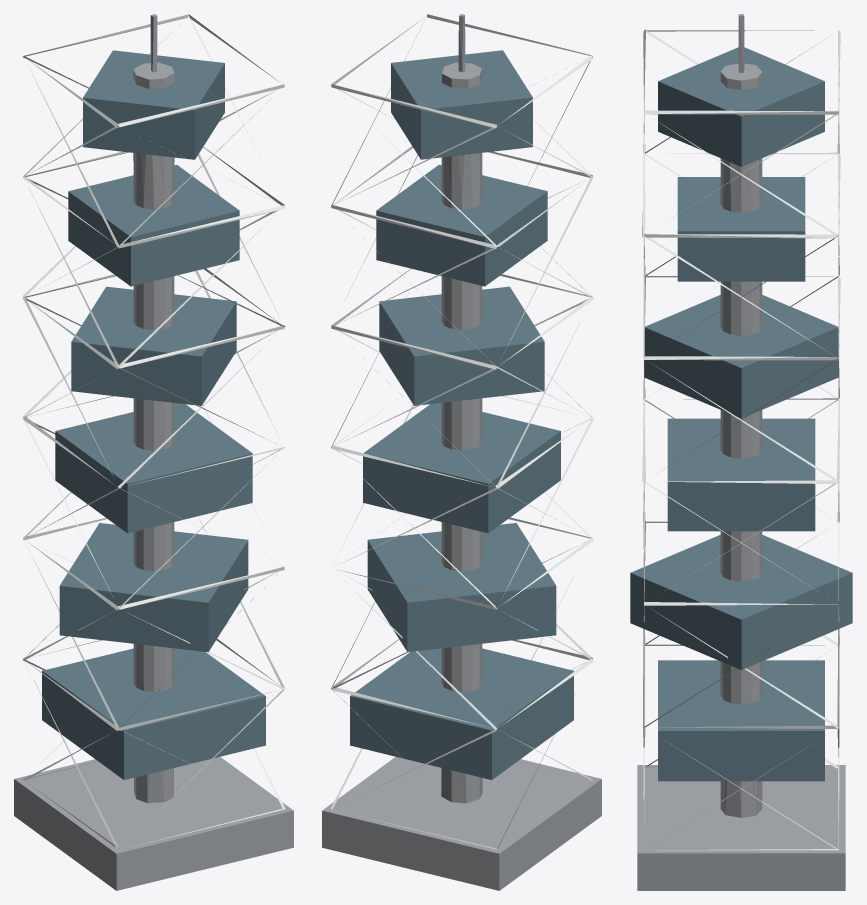
Rendered from linglong-far-a78555ab0e.glb.
The picture shows the model from 3 angles, left to right: view 1: azimuth 30°, elevation 25°; view 2: azimuth 150°, elevation 25°; view 3: azimuth 270°, elevation 25°; orthographic projection.
Visible parts, largest first — view 1: linglong coarse.001; view 2: linglong coarse.001; view 3: linglong coarse.001.
Part boxes in pixels (x1,y1,x2,y2): linglong coarse.001: [14, 14, 293, 890]; linglong coarse.001: [322, 14, 601, 890]; linglong coarse.001: [630, 14, 852, 890].
Size of the model in its own units: 31.96 by 132 by 31.96.
